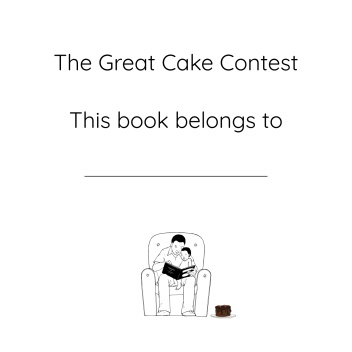latin: (65, 108, 284, 135), (53, 51, 300, 71)
